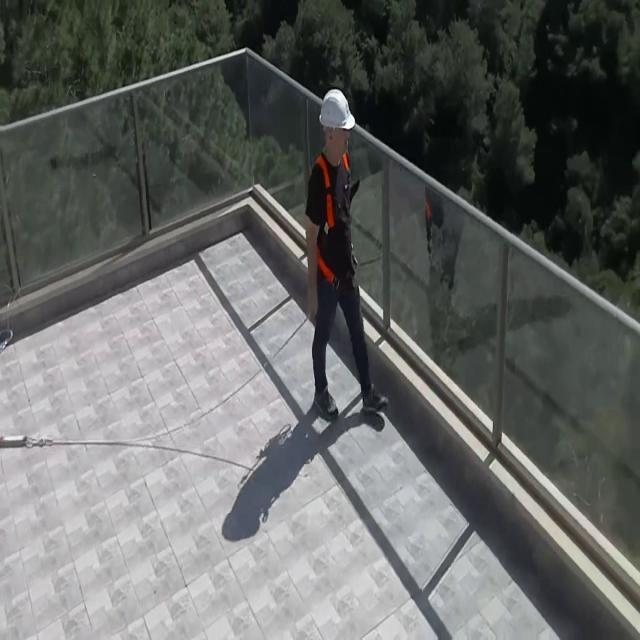Harness: (316, 153, 340, 284)
